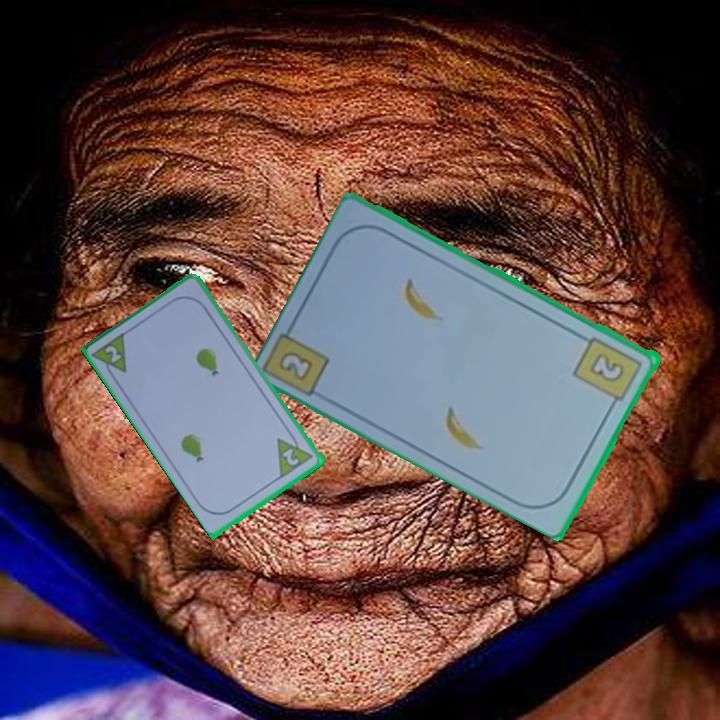2b: (570, 333, 646, 411), (275, 347, 317, 384)
2p: (279, 445, 303, 469), (102, 342, 125, 366)
